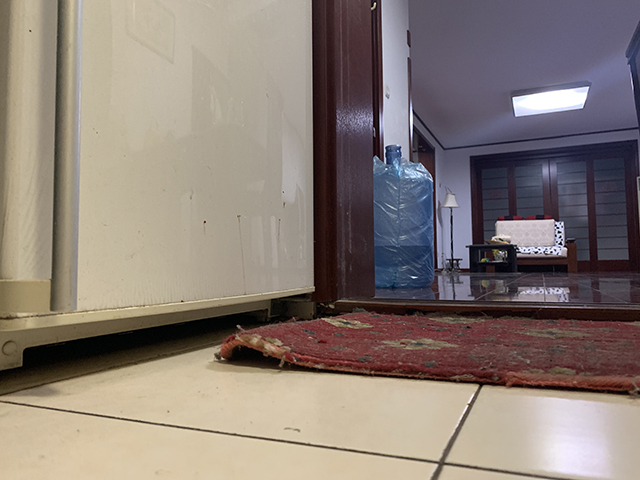carpet: (212, 307, 640, 401)
sofa: (484, 214, 579, 274)
table: (466, 242, 519, 275)
